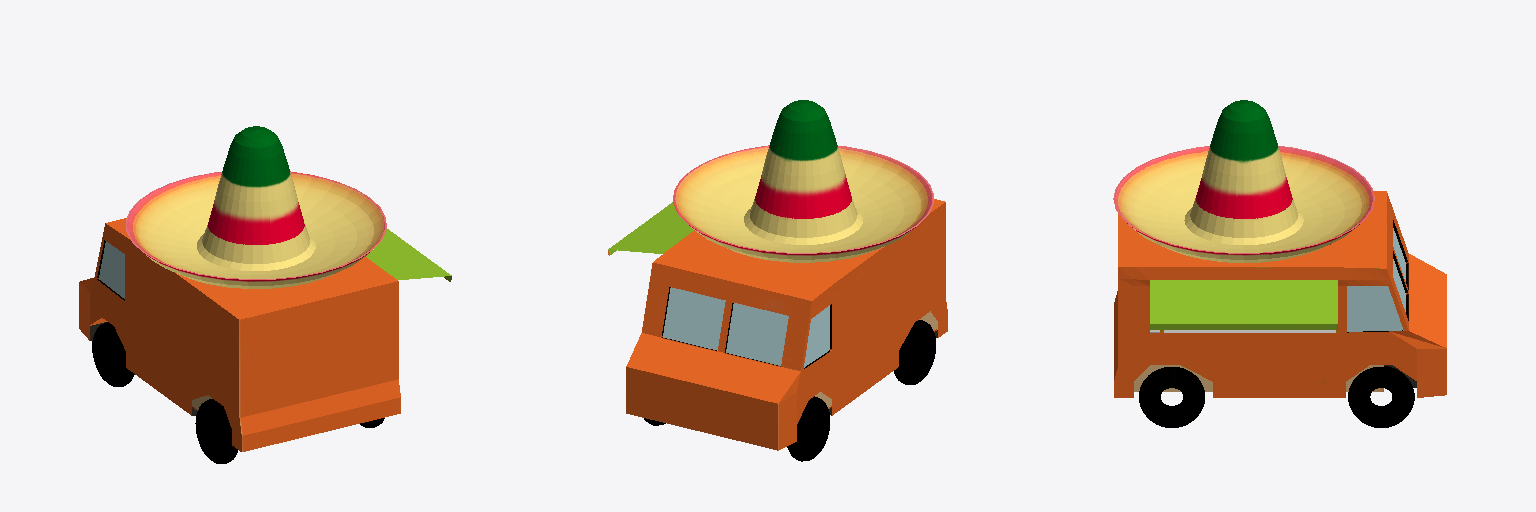
3 views of the same model, side by side, from view 1: azimuth 30°, elevation 25°; view 2: azimuth 150°, elevation 25°; view 3: azimuth 270°, elevation 25° (orthographic).
Visible parts, largest first — view 1: Cube, Sphere, Torus.001, Torus.003; view 2: Cube, Sphere, Torus.001, Torus.003; view 3: Cube, Sphere, Torus.002, Torus.
Boxes of the visible parts, <box> form: Cube: <box>79,218,451,451</box>; Sphere: <box>126,126,386,288</box>; Torus.001: <box>195,399,237,463</box>; Torus.003: <box>92,322,134,386</box>; Cube: <box>608,199,947,450</box>; Sphere: <box>673,100,933,262</box>; Torus.001: <box>894,320,935,384</box>; Torus.003: <box>787,396,829,461</box>; Cube: <box>1114,191,1446,397</box>; Sphere: <box>1113,100,1374,262</box>; Torus.002: <box>1348,366,1414,427</box>; Torus: <box>1139,367,1204,427</box>.
Size of the model in its own units: 122 by 128 by 135.
21 materials, 3 textured.